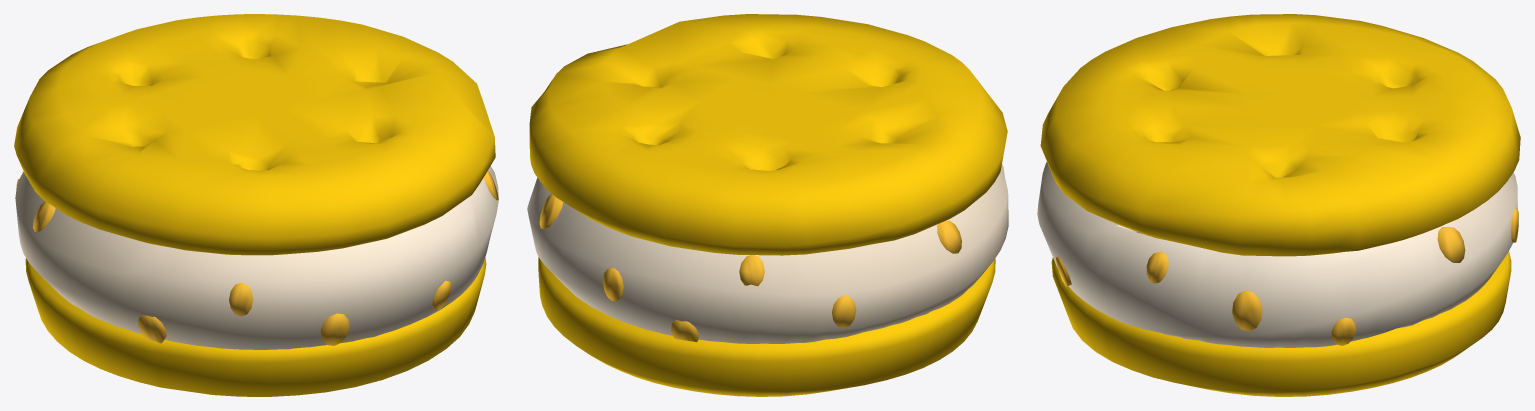
The model's file is IceCream_0001_0021.fbx.
3 views of the same model, side by side, from view 1: azimuth 30°, elevation 25°; view 2: azimuth 150°, elevation 25°; view 3: azimuth 270°, elevation 25° (orthographic).
Visible parts, largest first — view 1: Ice_0001_0021; view 2: Ice_0001_0021; view 3: Ice_0001_0021.
Part boxes in pixels (x1,y1,x2,y2): Ice_0001_0021: (14,14,498,396); Ice_0001_0021: (527,14,1008,396); Ice_0001_0021: (1037,14,1520,396).
Size of the model in its own units: 0.1043 by 0.0505 by 0.1045.
Materials: 1 (1 with a texture image).
